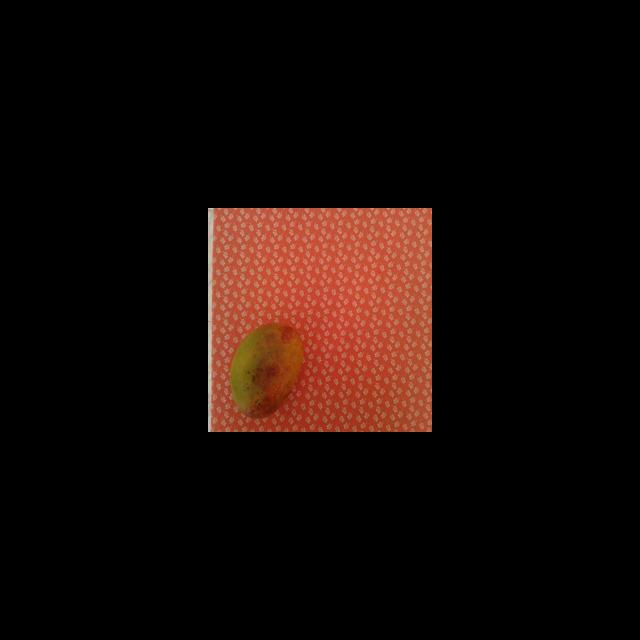Mango: (229, 322, 304, 418)
